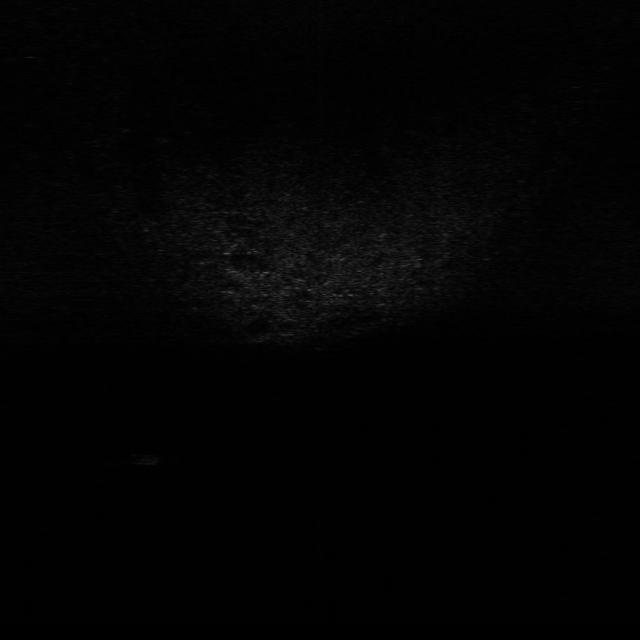cube: (130, 444, 180, 465)
